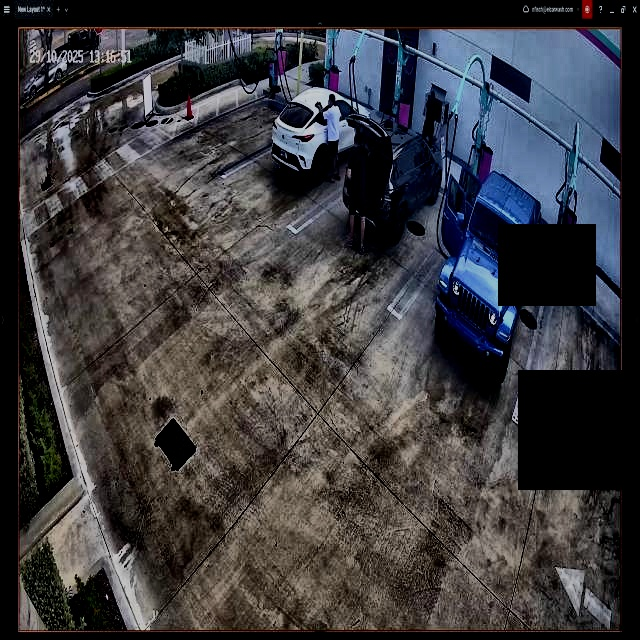Car: (433, 168, 542, 372), (347, 117, 439, 243), (268, 86, 371, 187)
